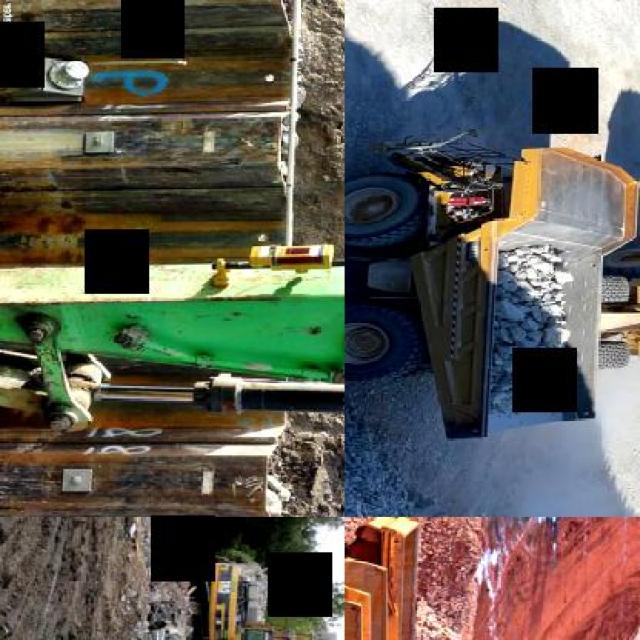buldozerpayloadergrader: (592, 226, 638, 394)
dump_truck: (344, 126, 638, 442), (345, 517, 437, 638)
excavator: (0, 0, 343, 434), (182, 560, 343, 638)
